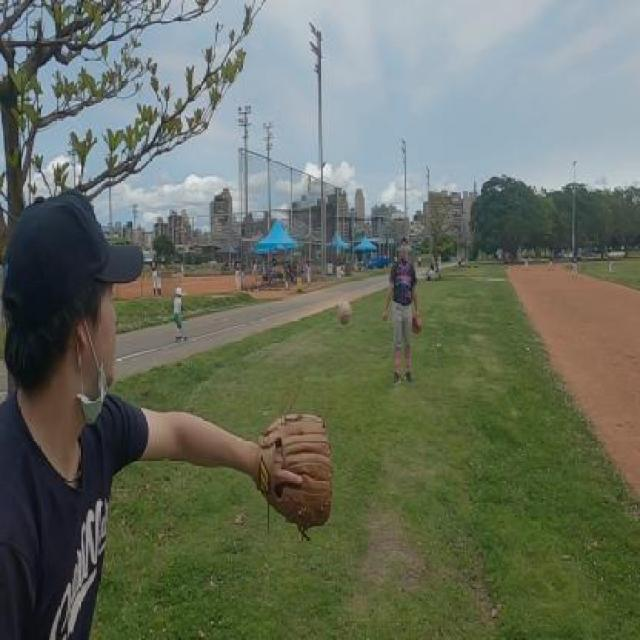baseball: (338, 300, 352, 326)
